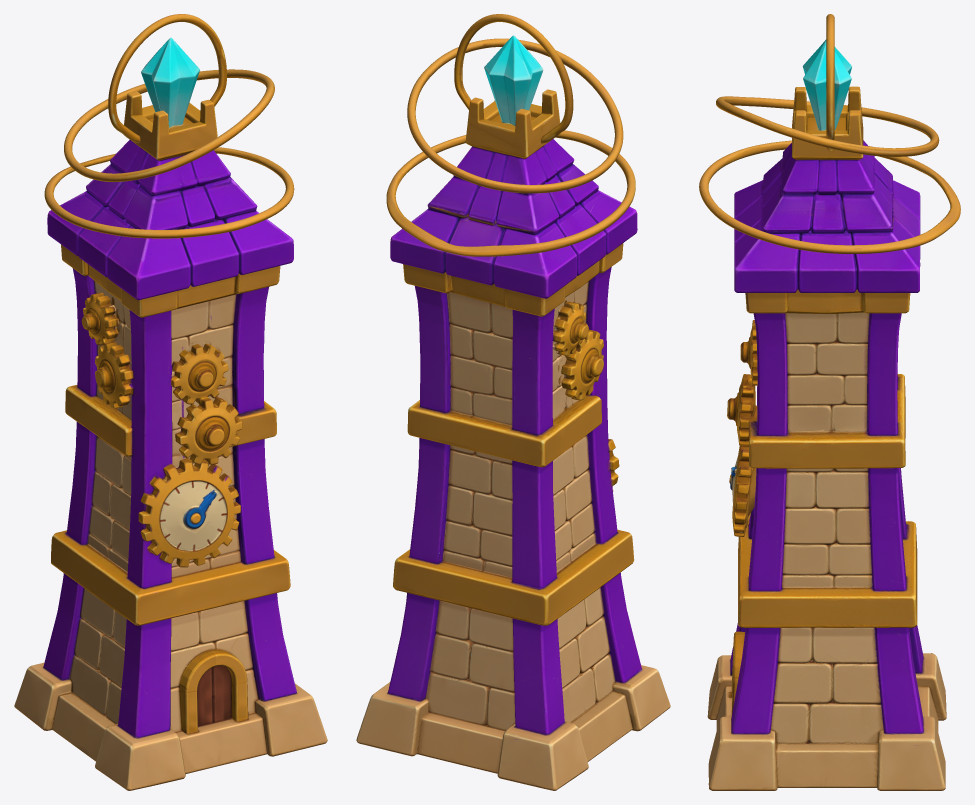
File: torre-numeros.glb
The picture shows the model from 3 angles, left to right: view 1: azimuth 30°, elevation 25°; view 2: azimuth 150°, elevation 25°; view 3: azimuth 270°, elevation 25°; orthographic projection. The views are drawn at different scales.
Bounding box in the file's own units: 0.601 × 1.9 × 0.6235.
Materials: 1 (1 with a texture image).
